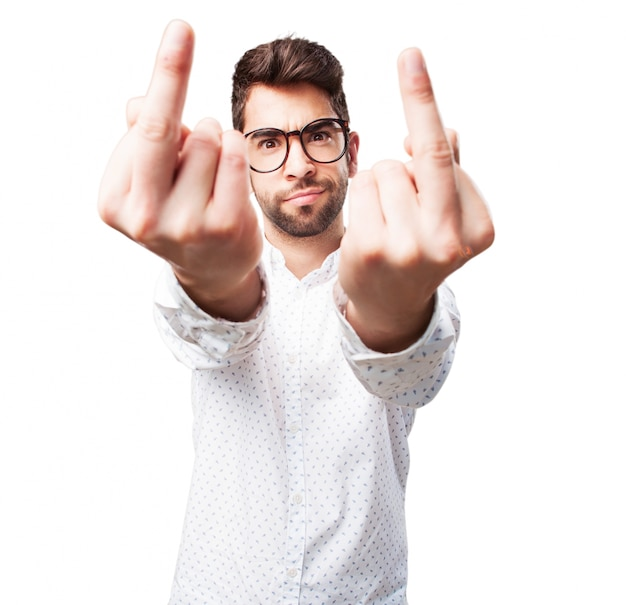insulting_gesture: (93, 11, 268, 299), (336, 37, 497, 323)
